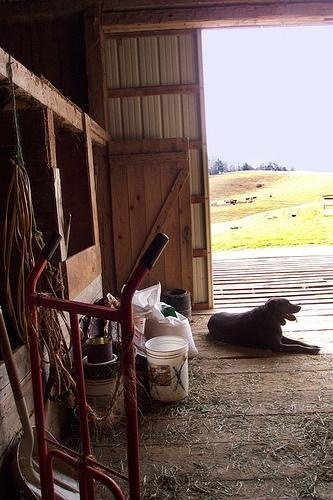dog: (209, 298, 322, 356)
